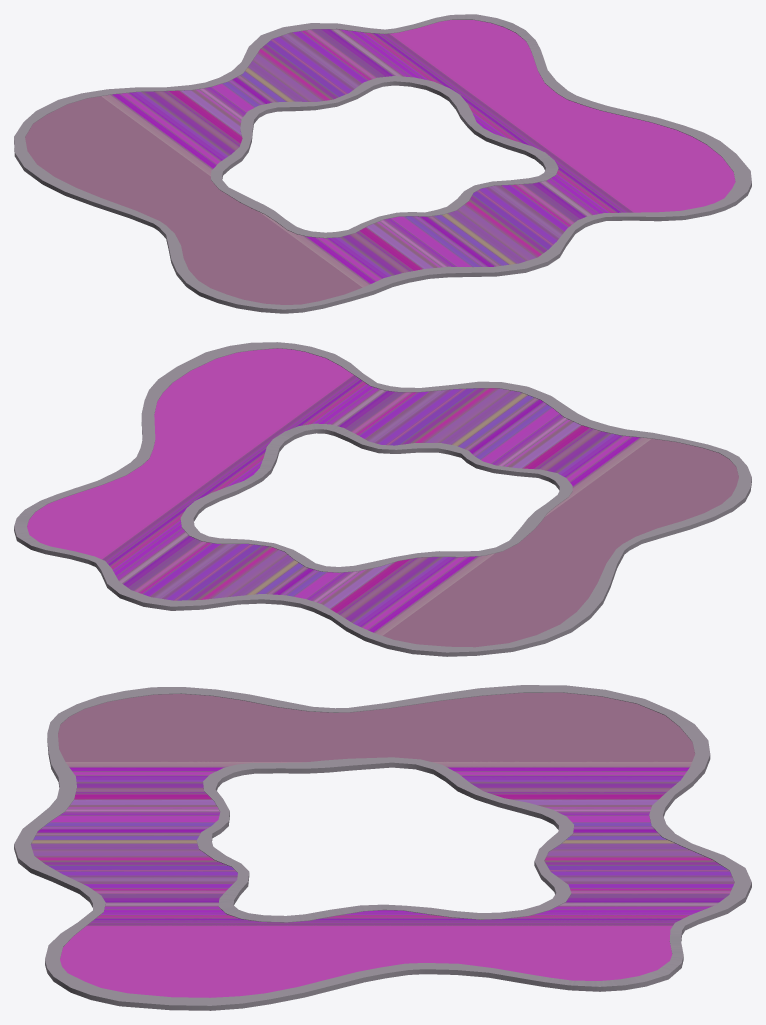
The model's file is objects_un_t04pottery01_02.gltf.
3 renders of one model, top to bottom at view 1: azimuth 30°, elevation 25°; view 2: azimuth 150°, elevation 25°; view 3: azimuth 270°, elevation 25°, orthographic. The views are drawn at different scales.
Parts seen in each view (by area): view 1: pottery01_02_shape:objects_un_t04pottery01_obj02, pottery01_02_shape:objects_un_t04pottery01_obj01; view 2: pottery01_02_shape:objects_un_t04pottery01_obj02, pottery01_02_shape:objects_un_t04pottery01_obj01; view 3: pottery01_02_shape:objects_un_t04pottery01_obj02, pottery01_02_shape:objects_un_t04pottery01_obj01.
Part boxes in pixels (x1,y1,x2,y2): pottery01_02_shape:objects_un_t04pottery01_obj02: [25, 20, 735, 304]; pottery01_02_shape:objects_un_t04pottery01_obj01: [14, 14, 751, 313]; pottery01_02_shape:objects_un_t04pottery01_obj02: [27, 348, 738, 647]; pottery01_02_shape:objects_un_t04pottery01_obj01: [14, 342, 751, 656]; pottery01_02_shape:objects_un_t04pottery01_obj02: [31, 692, 734, 997]; pottery01_02_shape:objects_un_t04pottery01_obj01: [14, 685, 751, 1010].
Size of what is drawn, in the model's own units: 15.24 by 0.11 by 14.82.
Materials: 2 (2 with a texture image).
